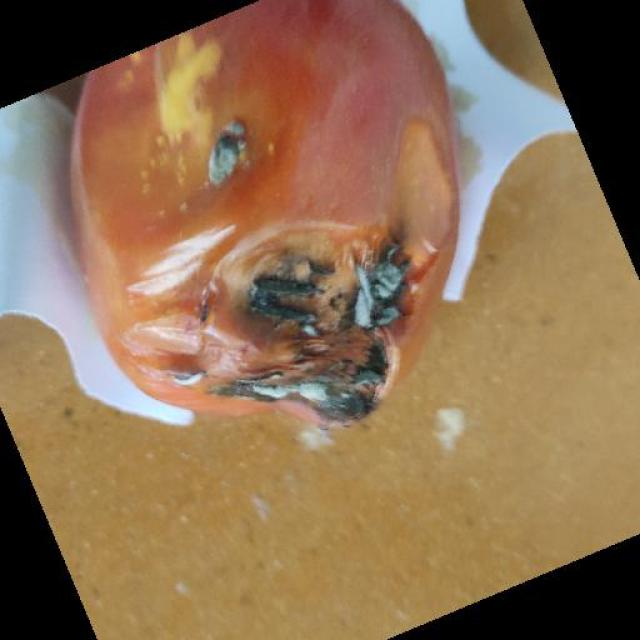Stale_tomato: (71, 29, 476, 442)
